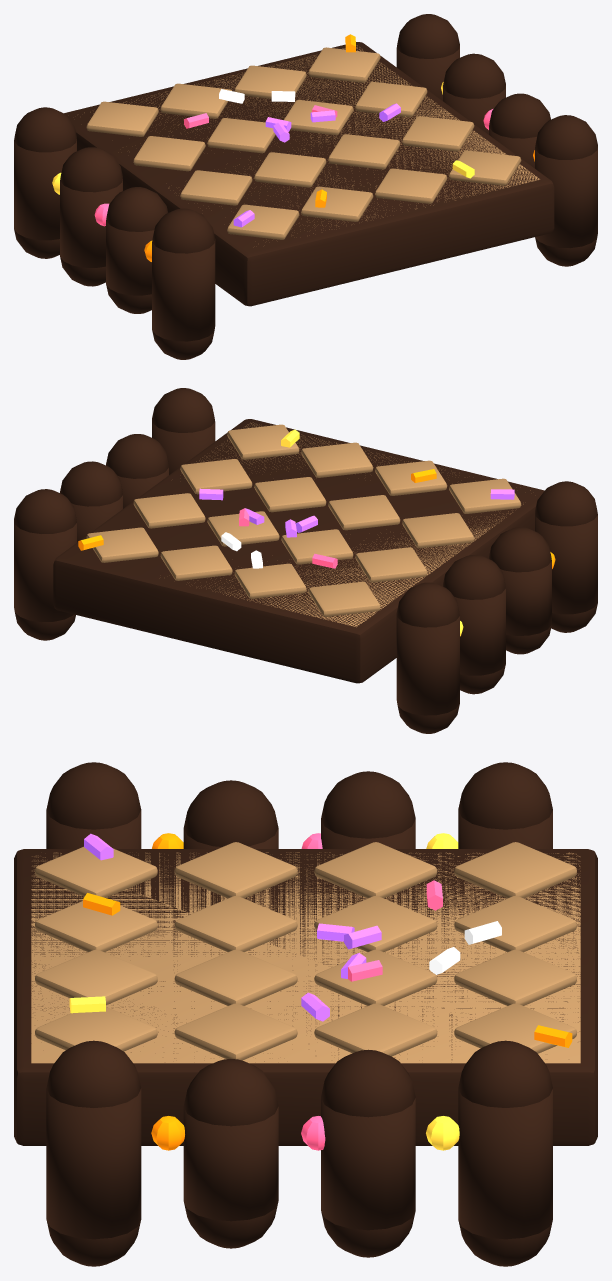
Rendered from tile_a.glb.
The picture shows the model from 3 angles, top to bottom: view 1: azimuth 30°, elevation 25°; view 2: azimuth 150°, elevation 25°; view 3: azimuth 270°, elevation 25°; orthographic projection. The views are drawn at different scales.
Visible parts, largest first — view 1: Base, Drip, Drip.004, Drip.003, Drip.002, Drip.001, Top, Drip.007, Drip.006, Drip.005, Cell.001, Cell.005 (+14 smaller); view 2: Base, Drip.003, Drip.007, Drip, Drip.002, Drip.001, Drip.004, Top, Drip.006, Drip.005, Cell.014, Cell.001 (+14 smaller); view 3: Base, Top, Drip.004, Drip.007, Drip.006, Drip.005, Drip.003, Drip, Drip.002, Drip.001, Cell.013, Cell.001 (+17 smaller).
Boxes of the visible parts, x1=… form: Base: x1=64, y1=42, x2=554, y2=306; Drip: x1=152, y1=208, x2=215, y2=359; Drip.004: x1=535, y1=115, x2=597, y2=266; Drip.003: x1=14, y1=107, x2=76, y2=258; Drip.002: x1=60, y1=147, x2=122, y2=286; Drip.001: x1=106, y1=187, x2=168, y2=313; Top: x1=84, y1=45, x2=539, y2=233; Drip.007: x1=396, y1=14, x2=459, y2=100; Drip.006: x1=443, y1=53, x2=505, y2=134; Drip.005: x1=489, y1=93, x2=550, y2=168; Cell.001: x1=180, y1=170, x2=252, y2=205; Cell.005: x1=254, y1=152, x2=326, y2=187; Base: x1=53, y1=419, x2=544, y2=683; Drip.003: x1=396, y1=582, x2=459, y2=733; Drip.007: x1=14, y1=489, x2=76, y2=640; Drip: x1=535, y1=481, x2=597, y2=632; Drip.002: x1=443, y1=555, x2=505, y2=694; Drip.001: x1=489, y1=527, x2=551, y2=654; Drip.004: x1=152, y1=388, x2=215, y2=474; Top: x1=196, y1=422, x2=530, y2=627; Drip.006: x1=60, y1=461, x2=122, y2=542; Drip.005: x1=106, y1=434, x2=168, y2=508; Cell.014: x1=133, y1=493, x2=205, y2=528; Cell.001: x1=402, y1=513, x2=474, y2=548; Base: x1=14, y1=849, x2=597, y2=1145; Top: x1=31, y1=852, x2=580, y2=1063; Drip.004: x1=46, y1=1040, x2=141, y2=1266; Drip.007: x1=458, y1=1040, x2=552, y2=1266; Drip.006: x1=321, y1=1049, x2=415, y2=1257; Drip.005: x1=183, y1=1059, x2=278, y2=1248; Drip.003: x1=458, y1=762, x2=552, y2=848; Drip: x1=46, y1=762, x2=141, y2=848; Drip.002: x1=321, y1=771, x2=415, y2=848; Drip.001: x1=183, y1=780, x2=278, y2=848; Cell.013: x1=174, y1=1003, x2=297, y2=1060; Cell.001: x1=174, y1=842, x2=297, y2=898.
Size of the model in its own units: 3.02 by 0.96 by 2.34.
